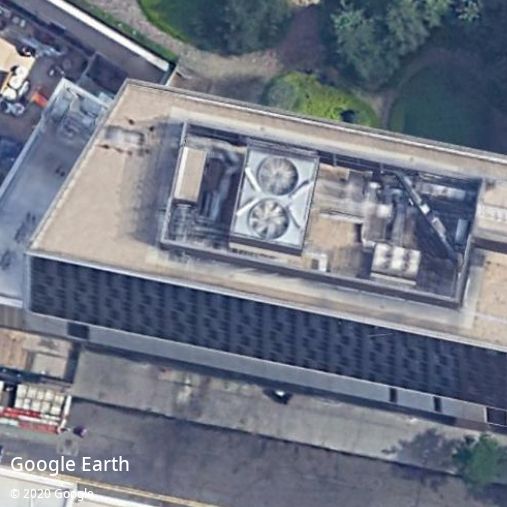Vent: (259, 156, 298, 197), (250, 199, 289, 240)
